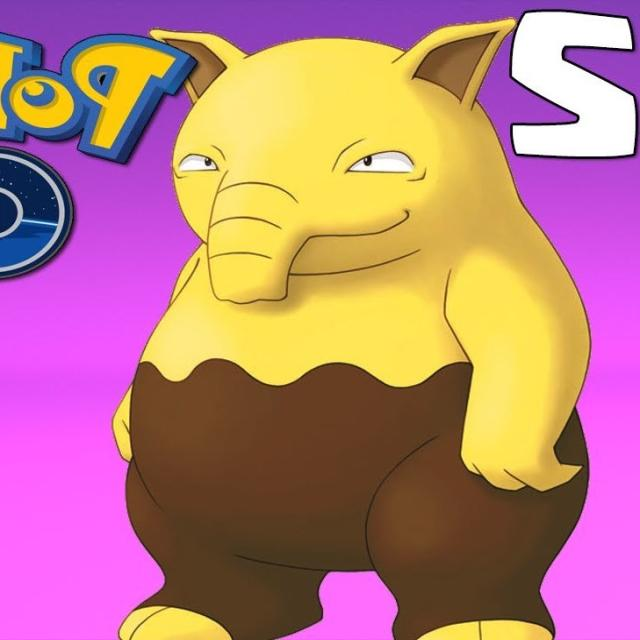Drowzee: (109, 29, 585, 640)
